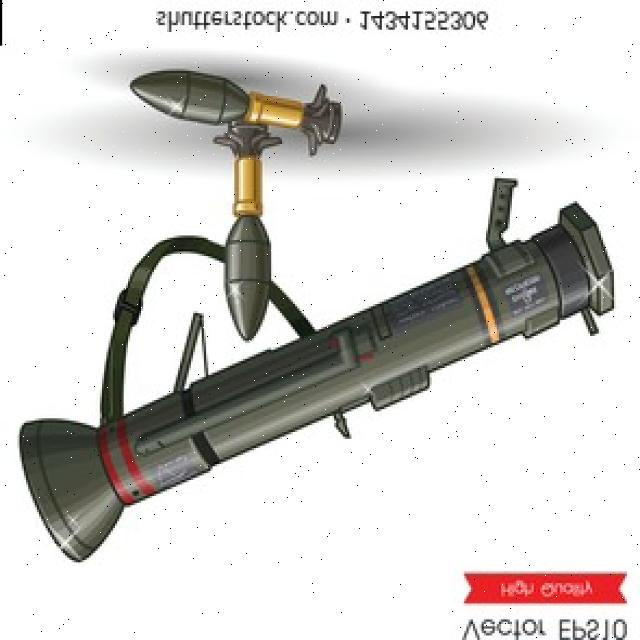bazooka: (11, 202, 624, 572)
